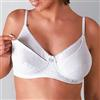reggiseno: (10, 9, 91, 83)
